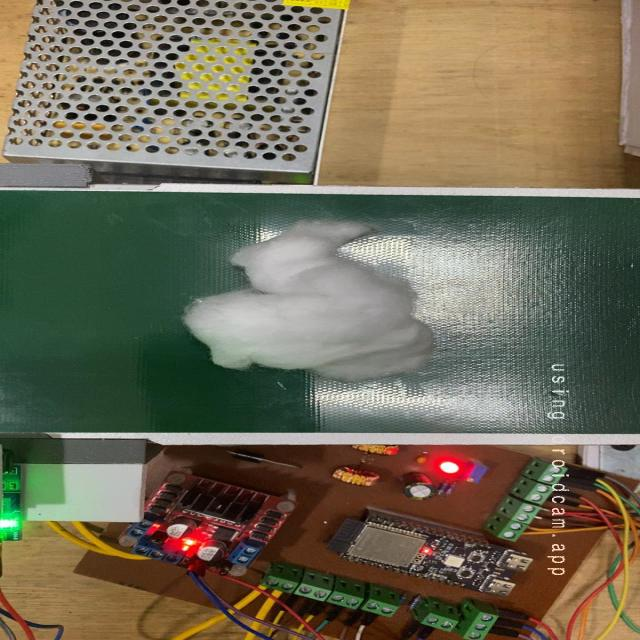cotton: (178, 214, 447, 390)
